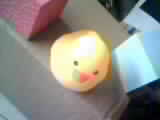duck: (43, 31, 123, 100)
